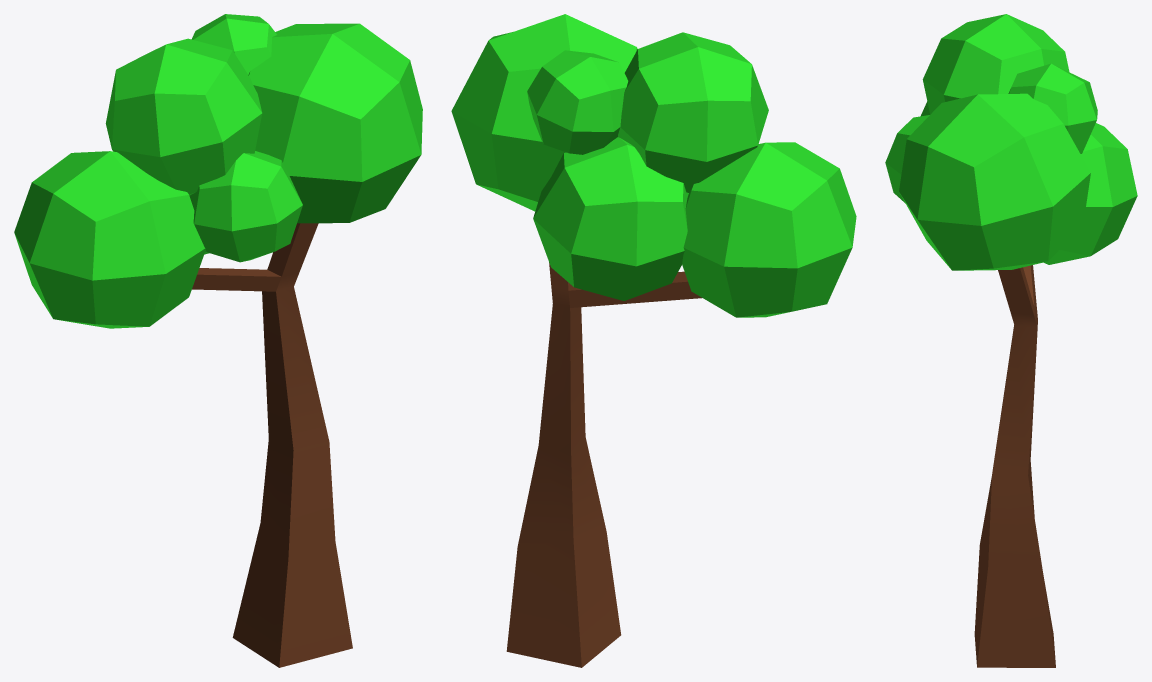
File: tree5.fbx
The picture shows the model from 3 angles, left to right: view 1: azimuth 30°, elevation 25°; view 2: azimuth 150°, elevation 25°; view 3: azimuth 270°, elevation 25°; orthographic projection. The views are drawn at different scales.
Visible parts, largest first — view 1: tree5; view 2: tree5; view 3: tree5.
Boxes of the visible parts, box(x1,y1,x2,y2) form: tree5: box(14, 14, 422, 667); tree5: box(451, 14, 856, 667); tree5: box(885, 14, 1137, 667).
Bounding box in the file's own units: 1.91 × 2.98 × 1.18.
